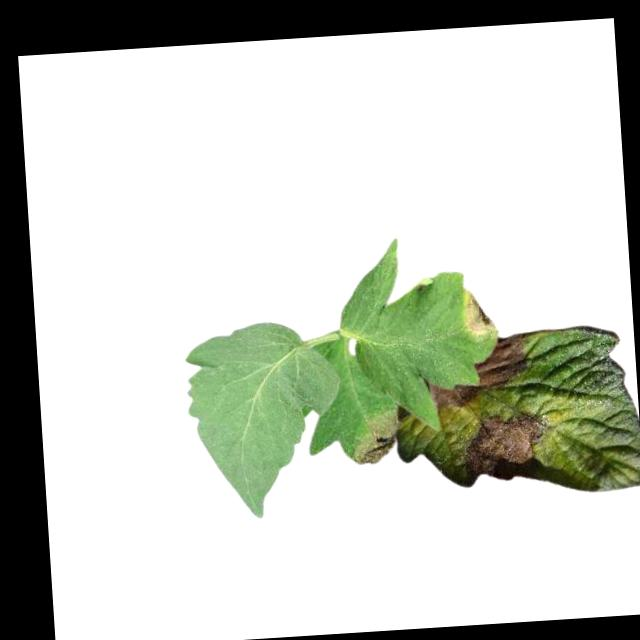Late_blight: (461, 411, 555, 485), (348, 406, 402, 471), (474, 336, 536, 389), (460, 287, 498, 338), (427, 380, 478, 411)
